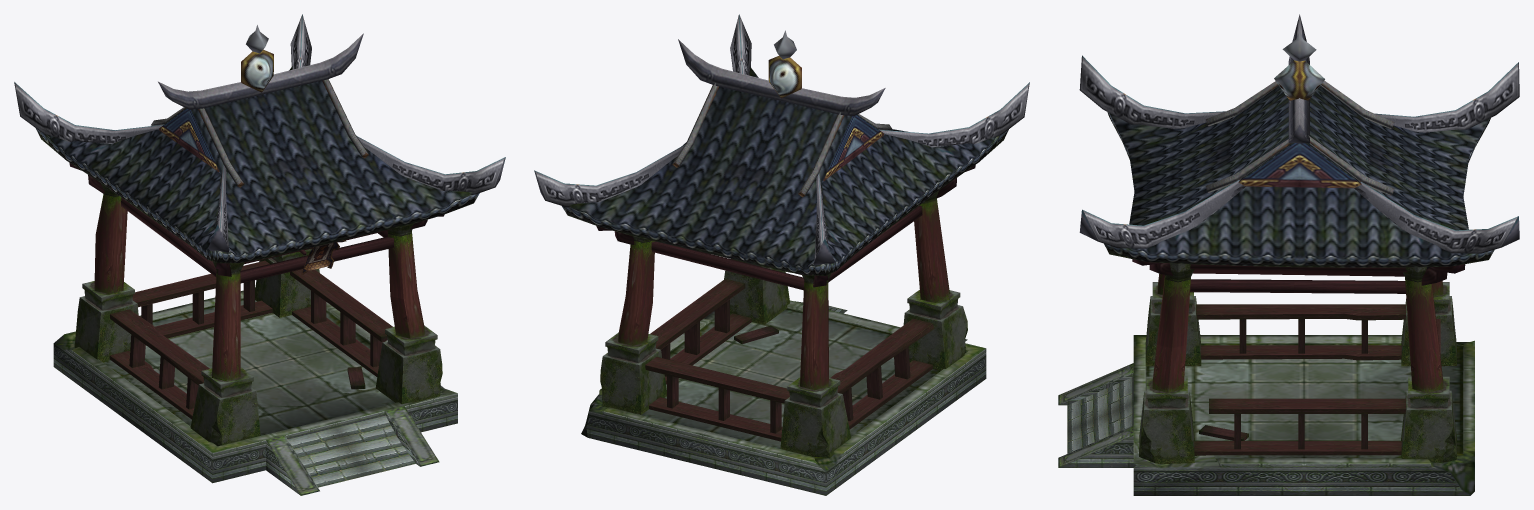
File: yzc_liangting.FBX
3 views of the same model, side by side, from view 1: azimuth 30°, elevation 25°; view 2: azimuth 150°, elevation 25°; view 3: azimuth 270°, elevation 25° (orthographic). The views are drawn at different scales.
Parts seen in each view (by area): view 1: yzc_liangting01, yzc_liangting02; view 2: yzc_liangting01, yzc_liangting02; view 3: yzc_liangting01, yzc_liangting02.
Part boxes in pixels (<box>): yzc_liangting01: <box>14,14,505,495</box>; yzc_liangting02: <box>74,183,442,446</box>; yzc_liangting01: <box>534,14,1029,495</box>; yzc_liangting02: <box>600,191,967,458</box>; yzc_liangting01: <box>1058,14,1519,495</box>; yzc_liangting02: <box>1139,263,1456,463</box>.
Bounding box in the file's own units: 795 × 969 × 1013.
